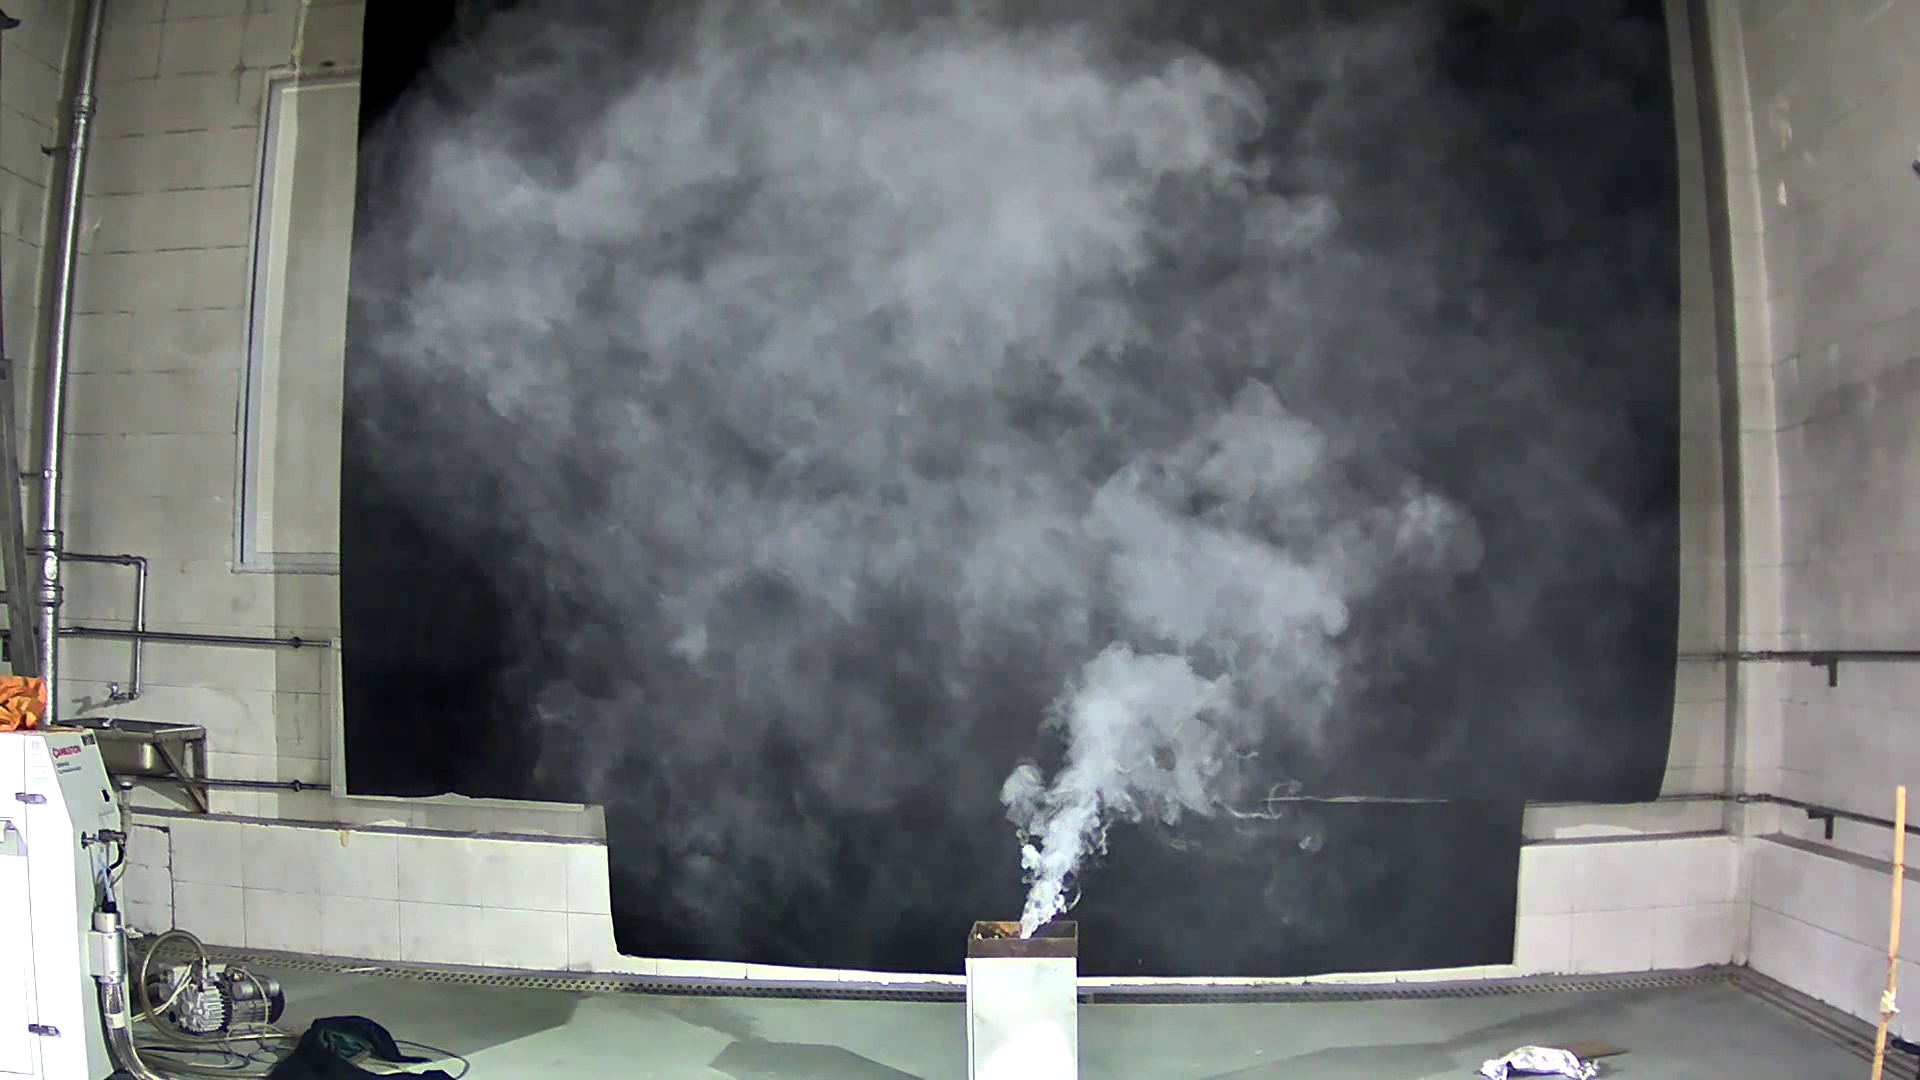smoke: (967, 543, 1348, 936)
